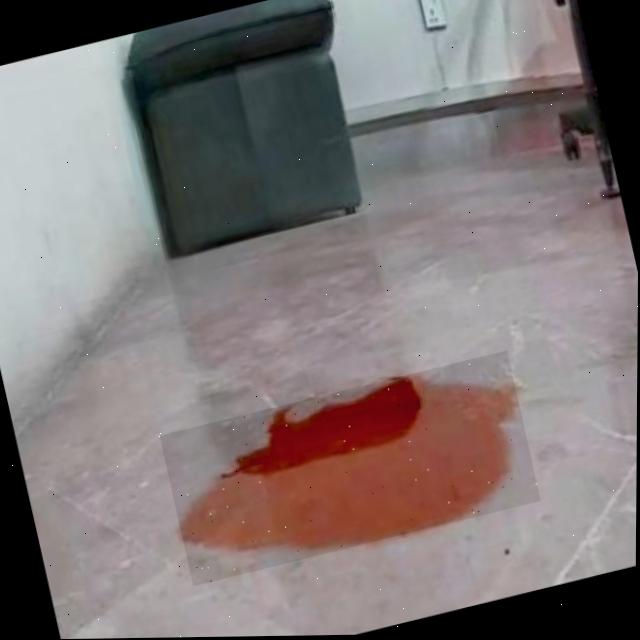spillage: (181, 379, 517, 550)
